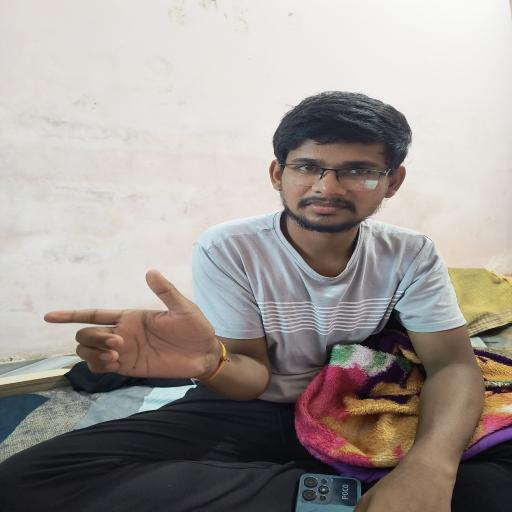Sorry: (33, 267, 249, 391)
